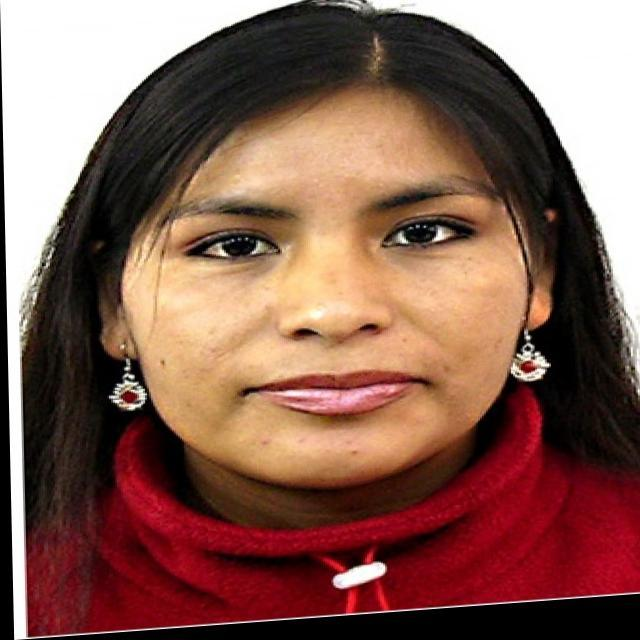Nonhelmet: (19, 2, 639, 618)
